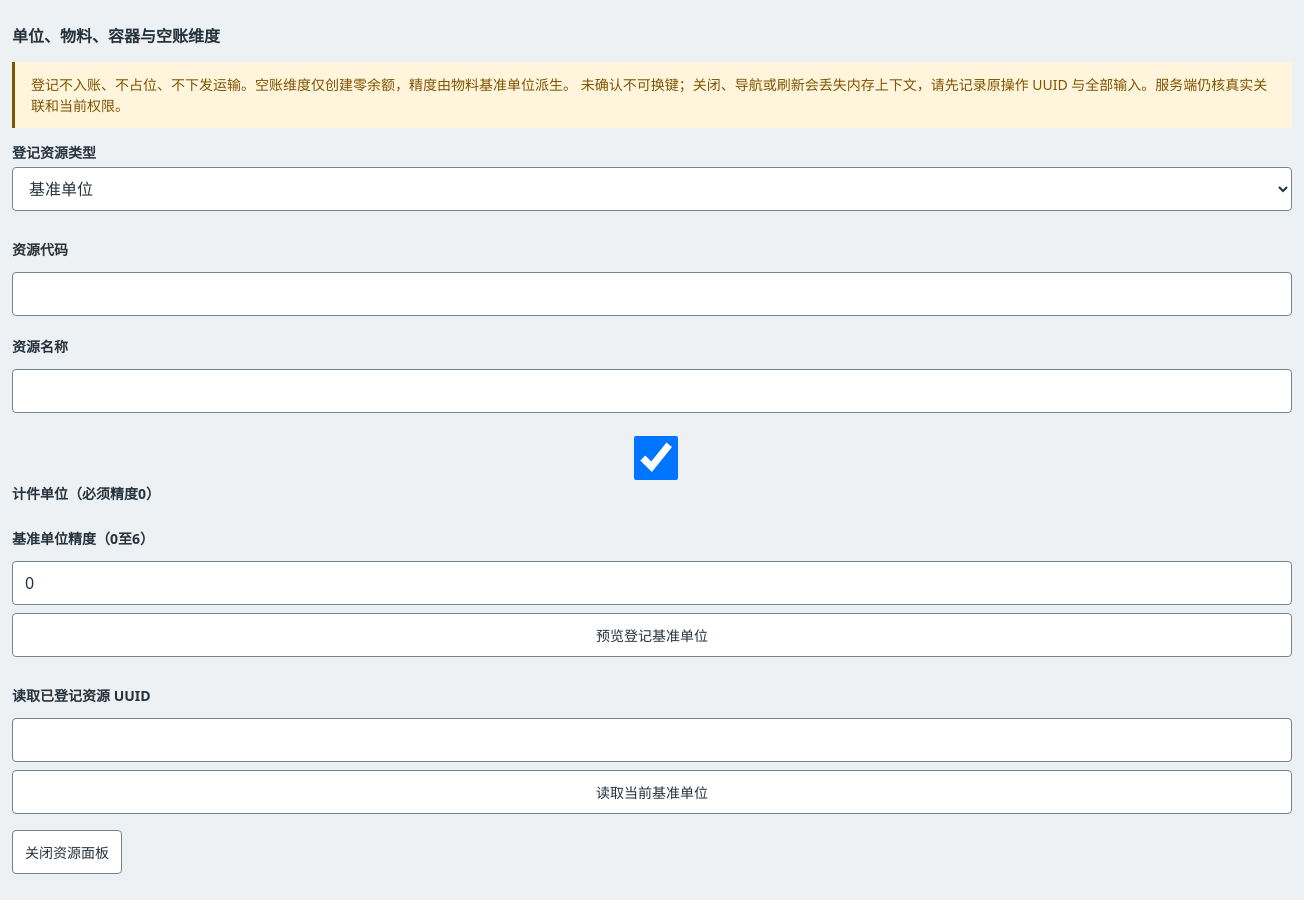
treats a malformed registration success as unknown: {}
Type "ea" into the field named "stockResourceCode" at (652, 294), box left=12, top=272, right=1292, bottom=316
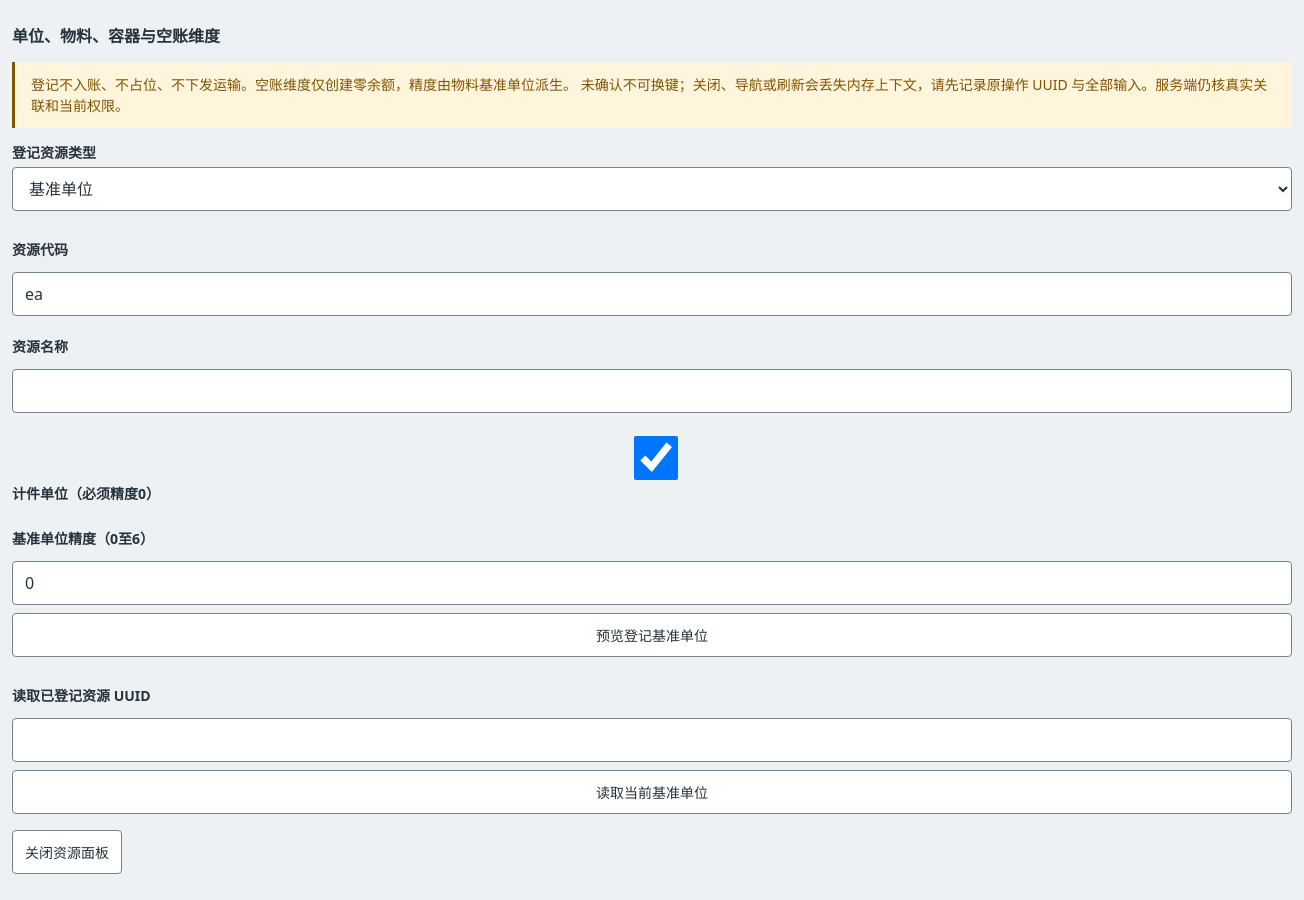
Type "Each" into the field named "stockResourceName" at (652, 391), box left=12, top=369, right=1292, bottom=413
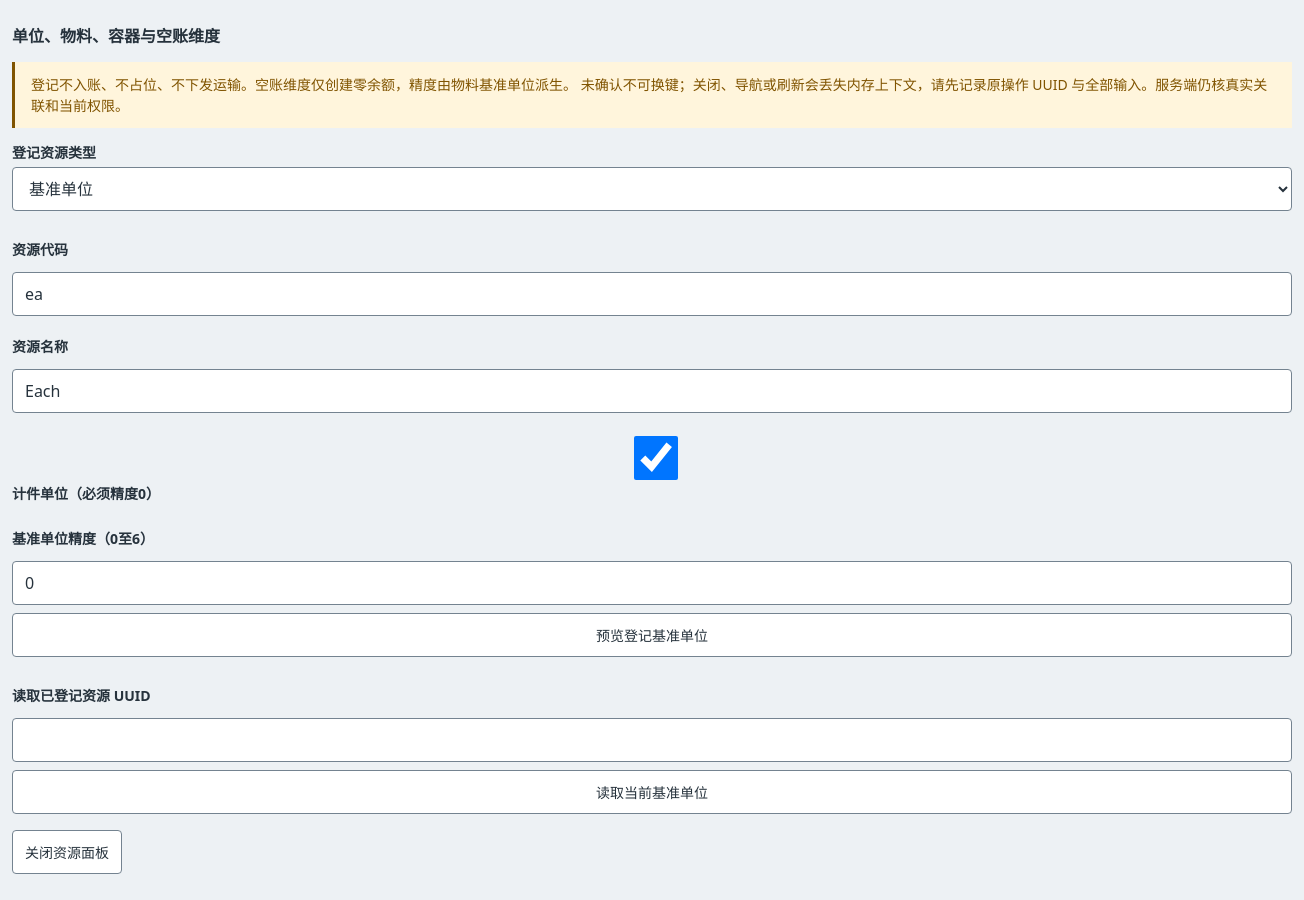
Submit the form with test id "stock-registration", box left=12, top=227, right=1292, bottom=657
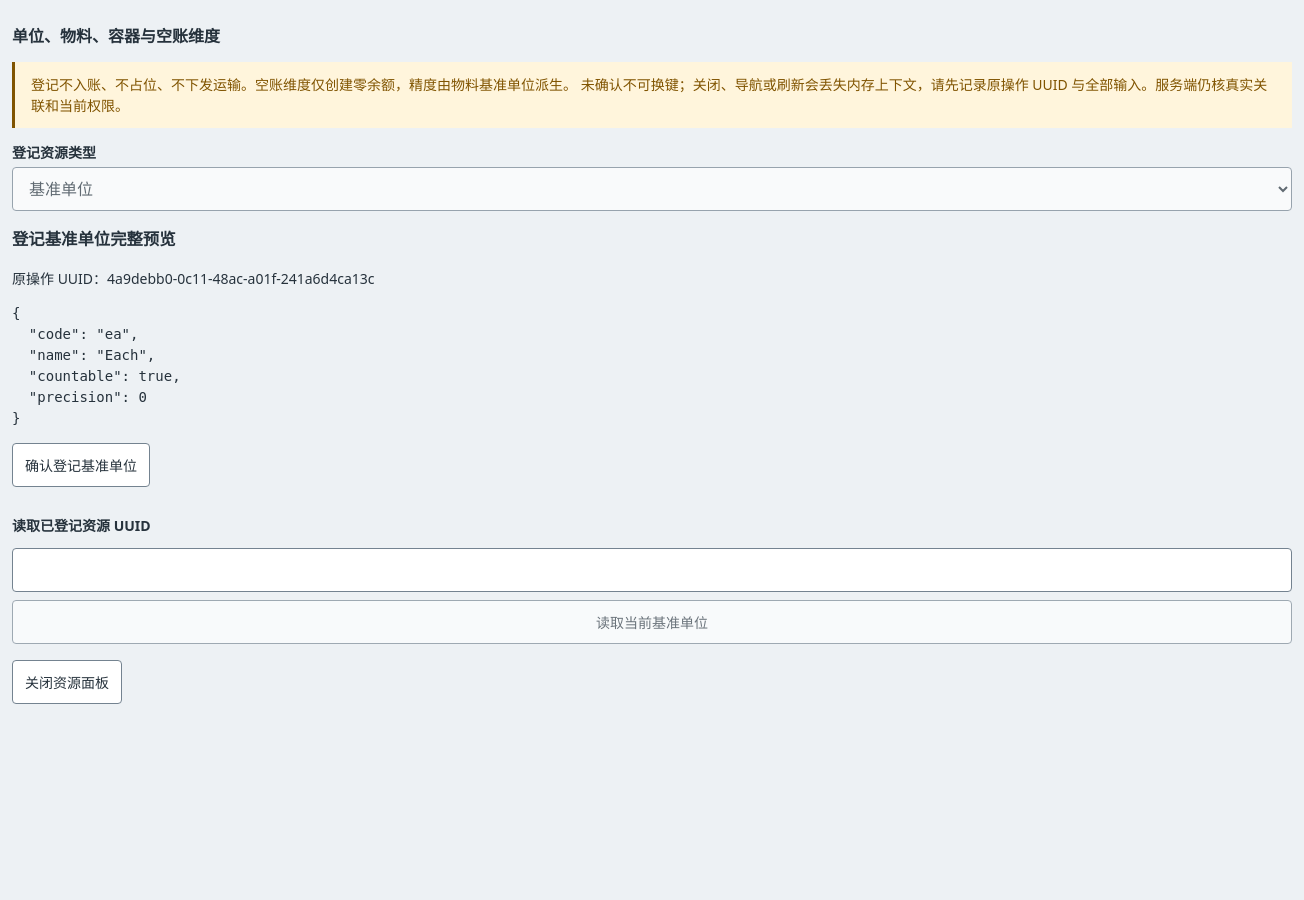
Click the button with test id "confirm-stock-resource" at (81, 465), box left=12, top=443, right=150, bottom=487
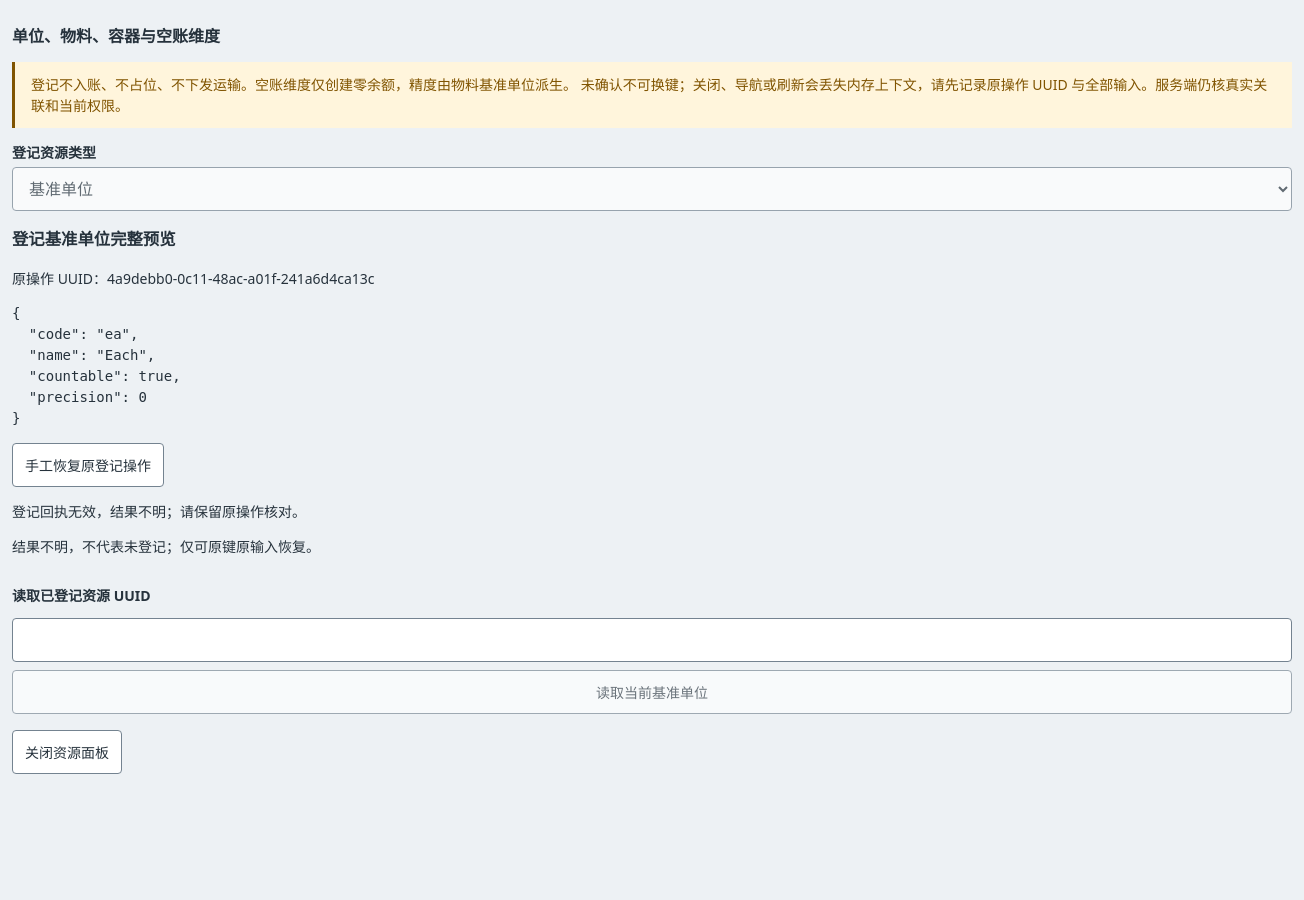
Result: the button with test id "retry-stock-resource" is shown at left=12, top=443, right=164, bottom=487
